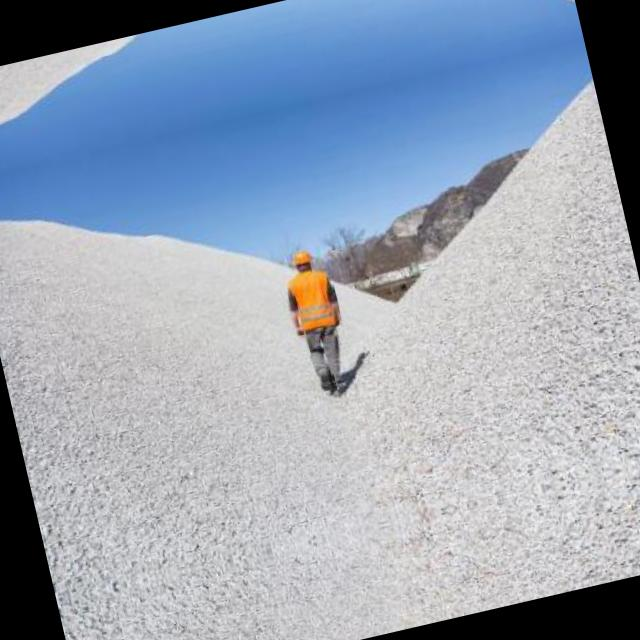helmet: (286, 241, 316, 274)
